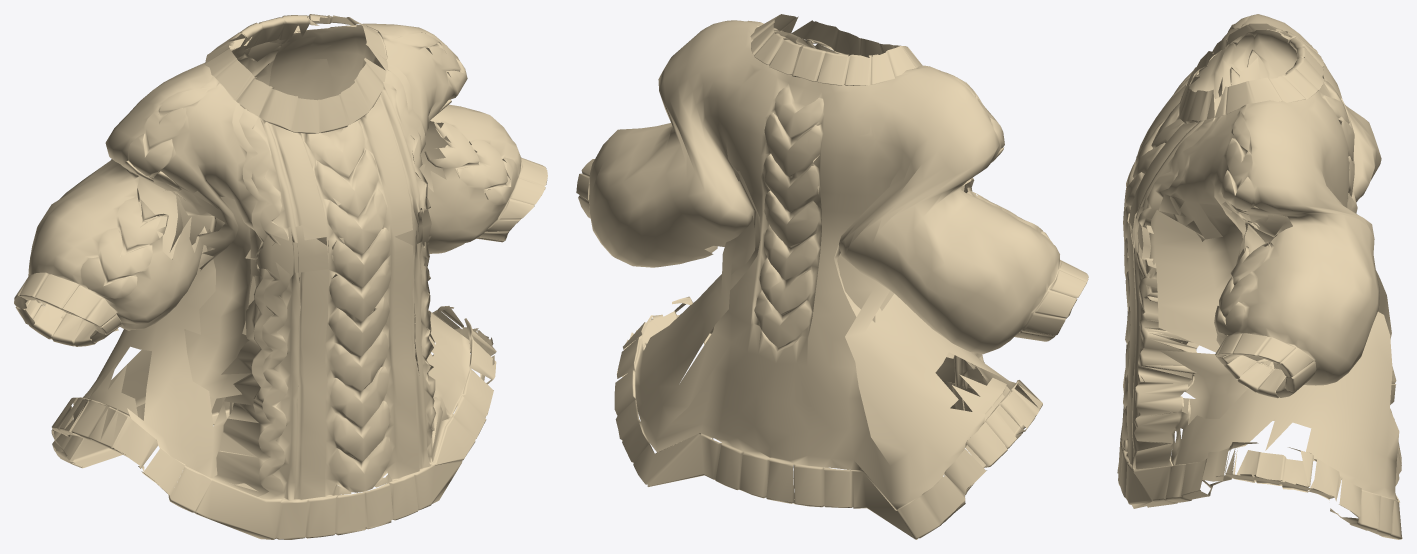
The model's file is top_f_m2sweater_untucked.glb.
3 views of the same model, side by side, from view 1: azimuth 30°, elevation 25°; view 2: azimuth 150°, elevation 25°; view 3: azimuth 270°, elevation 25° (orthographic). The views are drawn at different scales.
Parts seen in each view (by area): view 1: top_f_m2sweater_untucked; view 2: top_f_m2sweater_untucked; view 3: top_f_m2sweater_untucked.
Boxes of the visible parts, bbox=[...] form: top_f_m2sweater_untucked: bbox=[14, 14, 547, 539]; top_f_m2sweater_untucked: bbox=[576, 14, 1088, 539]; top_f_m2sweater_untucked: bbox=[1117, 14, 1402, 539].
Size of the model in its own units: 0.8849 by 0.7342 by 0.4382.
1 material, 1 textured.
